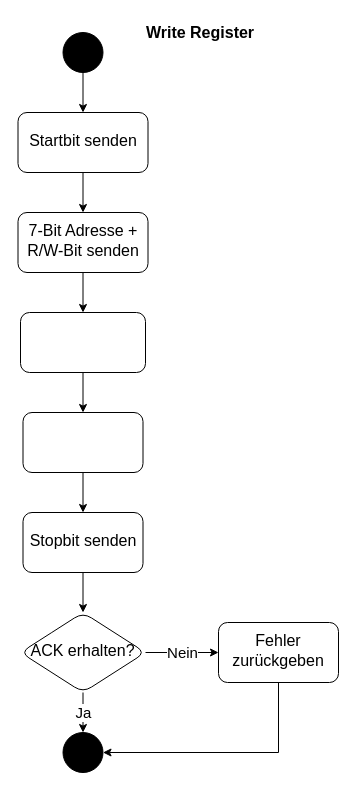
Some shapes in this 356 by 790 pixel diagram are drawn without their labels. Each missing label, with the centre of its shape:
Daten senden: pixel 82 442
Registeradresse senden: pixel 83 342
